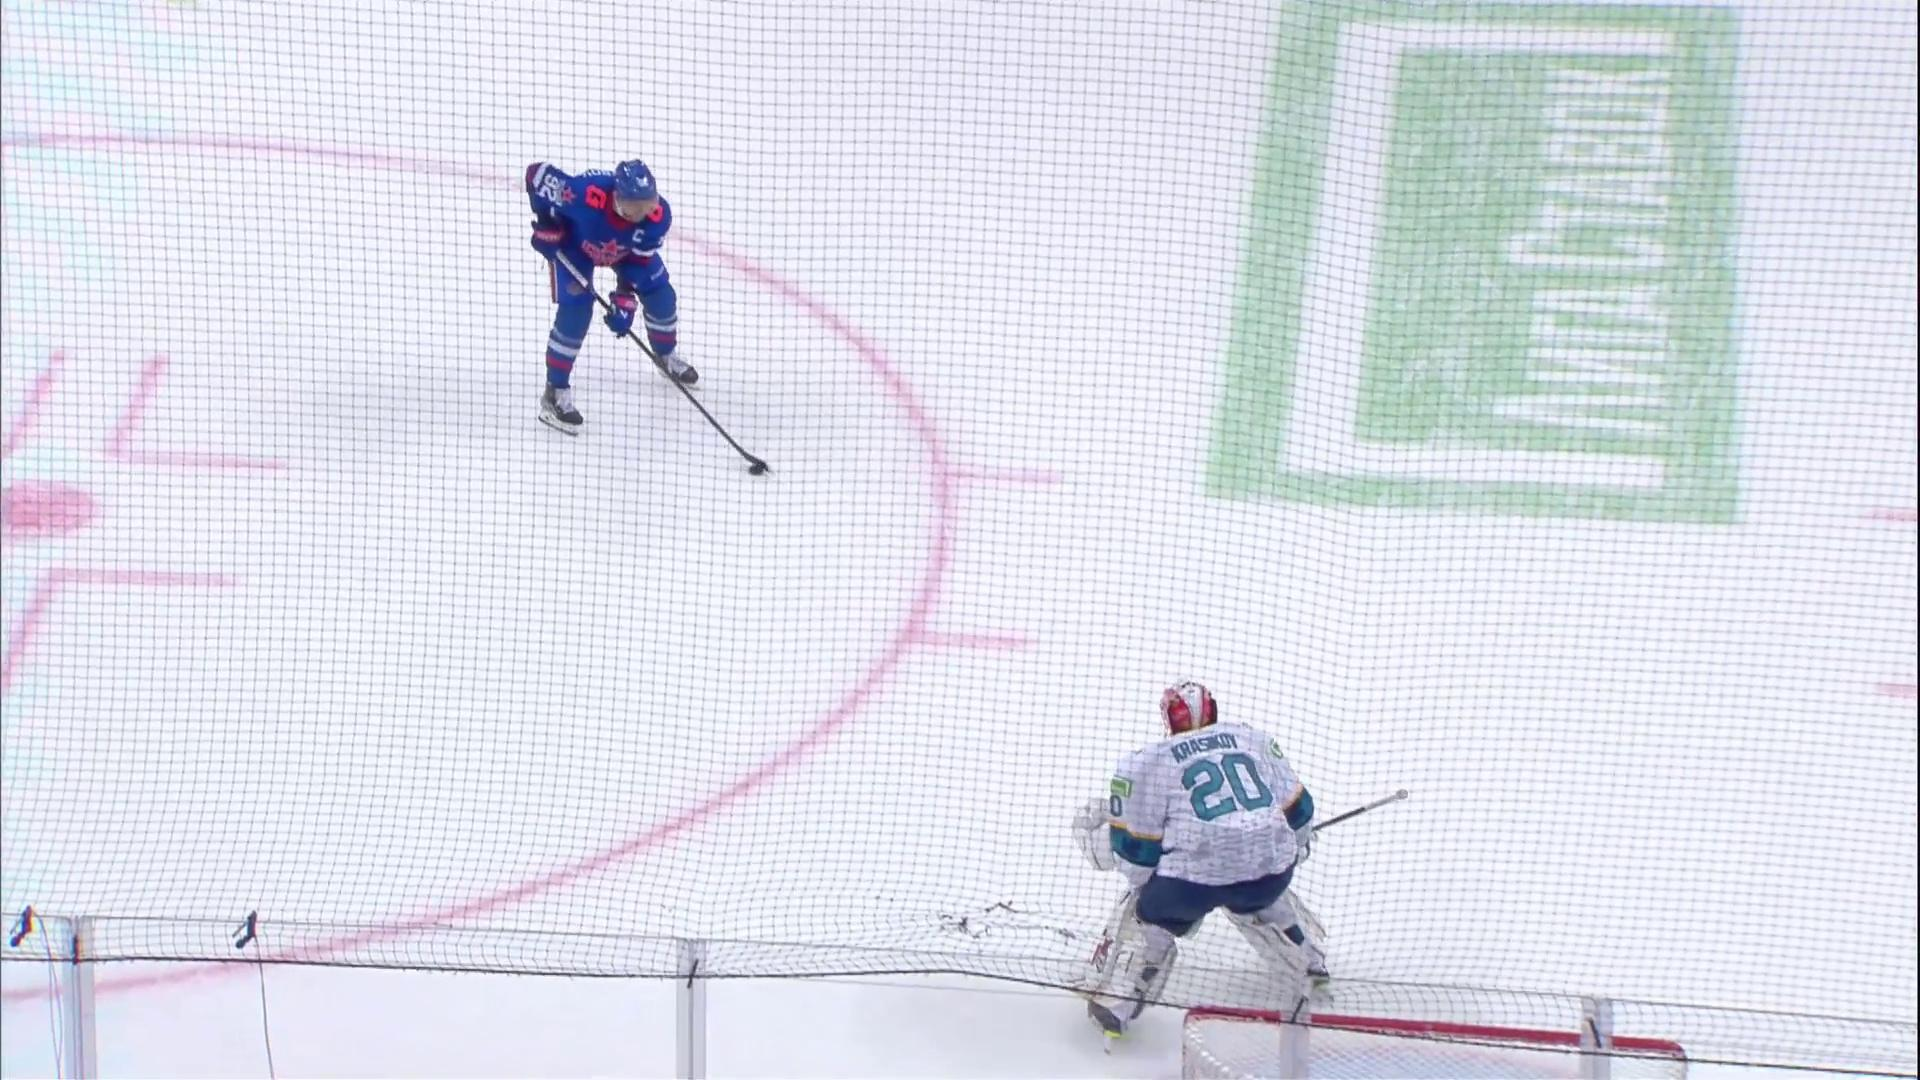ball: (748, 463, 765, 475)
